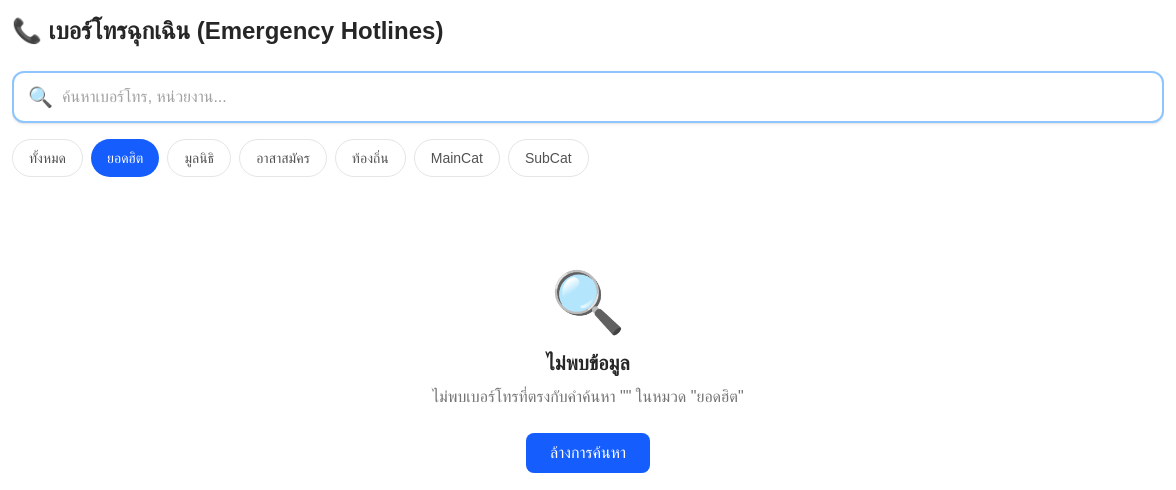
Test: HotlinesSection › filters by multiple categories
Click the button "SubCat" at (548, 158), box left=508, top=139, right=589, bottom=177
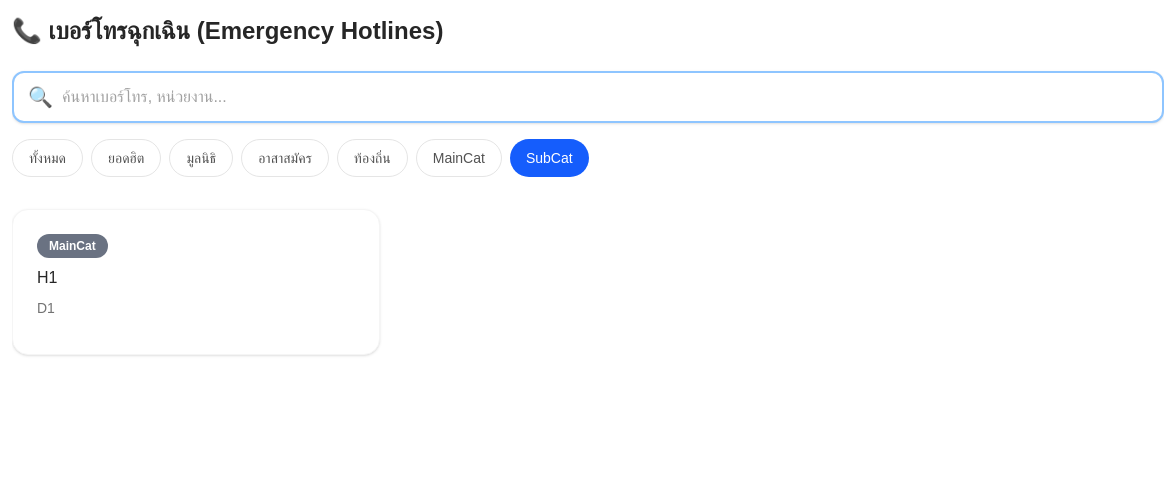
Expected: the text "H1" is shown, left=37, top=269, right=58, bottom=286
